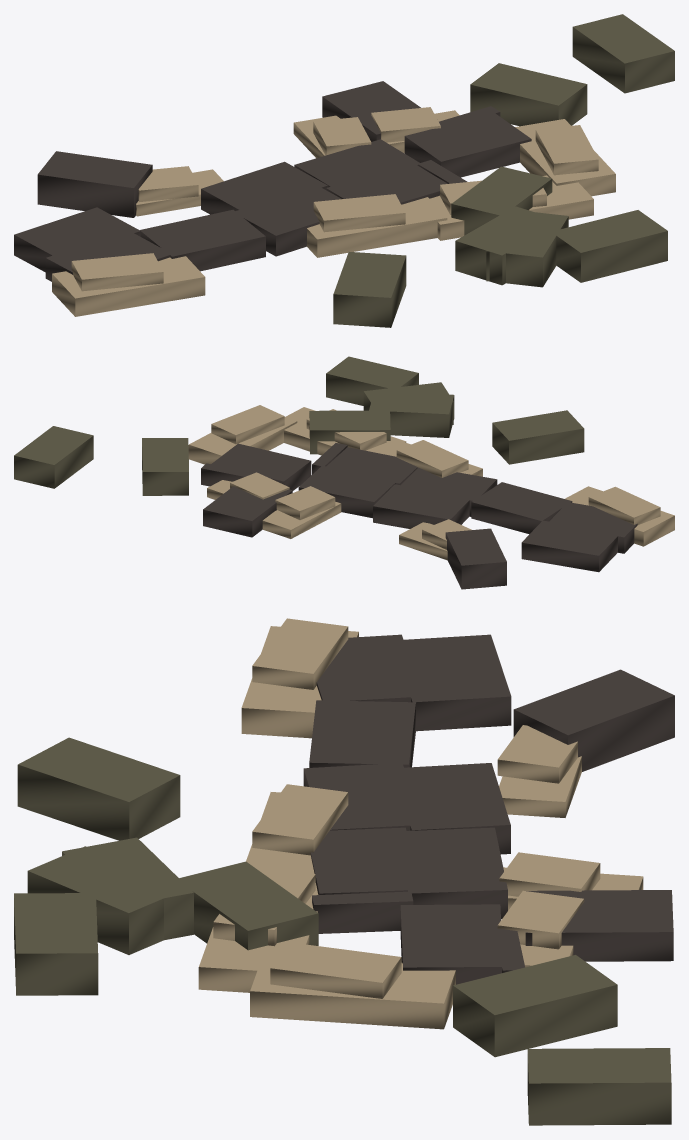
File: SM_SacosRemateEspejo_v2_Irregular_e3_Brecha_LOD1.fbx
The picture shows the model from 3 angles, top to bottom: view 1: azimuth 30°, elevation 25°; view 2: azimuth 150°, elevation 25°; view 3: azimuth 270°, elevation 25°; orthographic projection. The views are drawn at different scales.
Parts seen in each view (by area): view 1: SM_sacos_piezas_v31_LOD1; view 2: SM_sacos_piezas_v31_LOD1; view 3: SM_sacos_piezas_v31_LOD1.
Part boxes in pixels (box(x1,y1,x2,y2)): SM_sacos_piezas_v31_LOD1: box(14, 14, 674, 327); SM_sacos_piezas_v31_LOD1: box(14, 356, 674, 589); SM_sacos_piezas_v31_LOD1: box(14, 618, 674, 1125).
Size of the model in its own units: 6.29 by 0.26 by 3.71.
